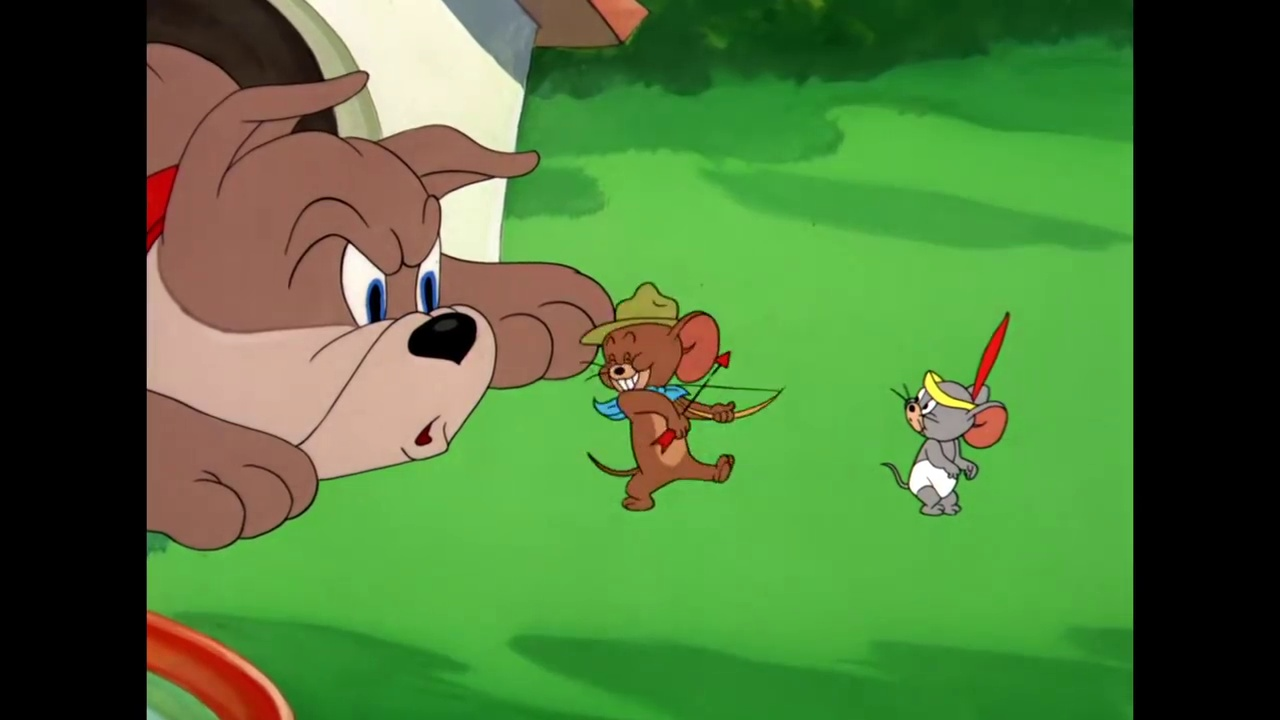spike: (163, 65, 541, 481)
